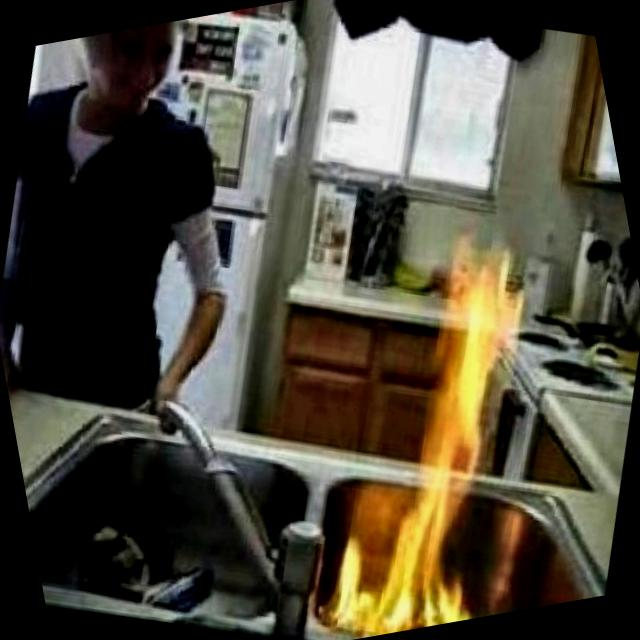fire: (244, 188, 605, 640)
